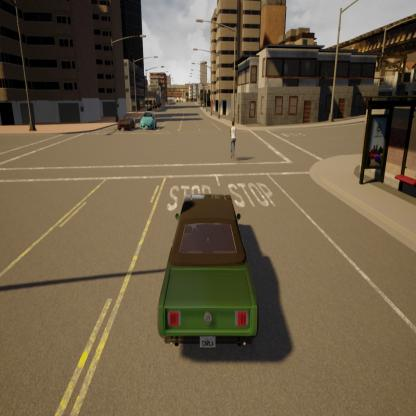Cars: (147, 184, 275, 374), (226, 116, 240, 170), (118, 109, 140, 142), (140, 102, 159, 136)
